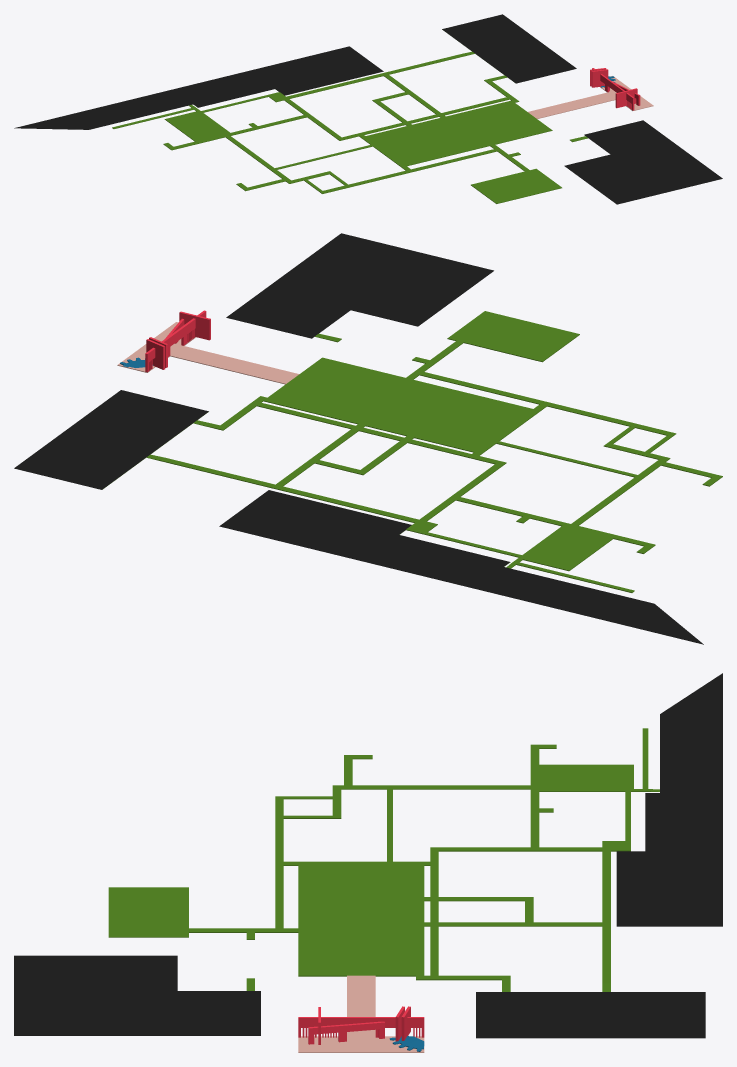
Rendered from Map.fbx.
The picture shows the model from 3 angles, top to bottom: view 1: azimuth 30°, elevation 25°; view 2: azimuth 150°, elevation 25°; view 3: azimuth 270°, elevation 25°; orthographic projection. The views are drawn at different scales.
Visible parts, largest first — view 1: Cube; view 2: Cube; view 3: Cube.
Boxes of the visible parts, x1,y1,x2,y2 form: Cube: [14, 14, 722, 204]; Cube: [14, 233, 722, 644]; Cube: [14, 673, 722, 1052].
Bounding box in the file's own units: 31300 × 980 × 24700.
